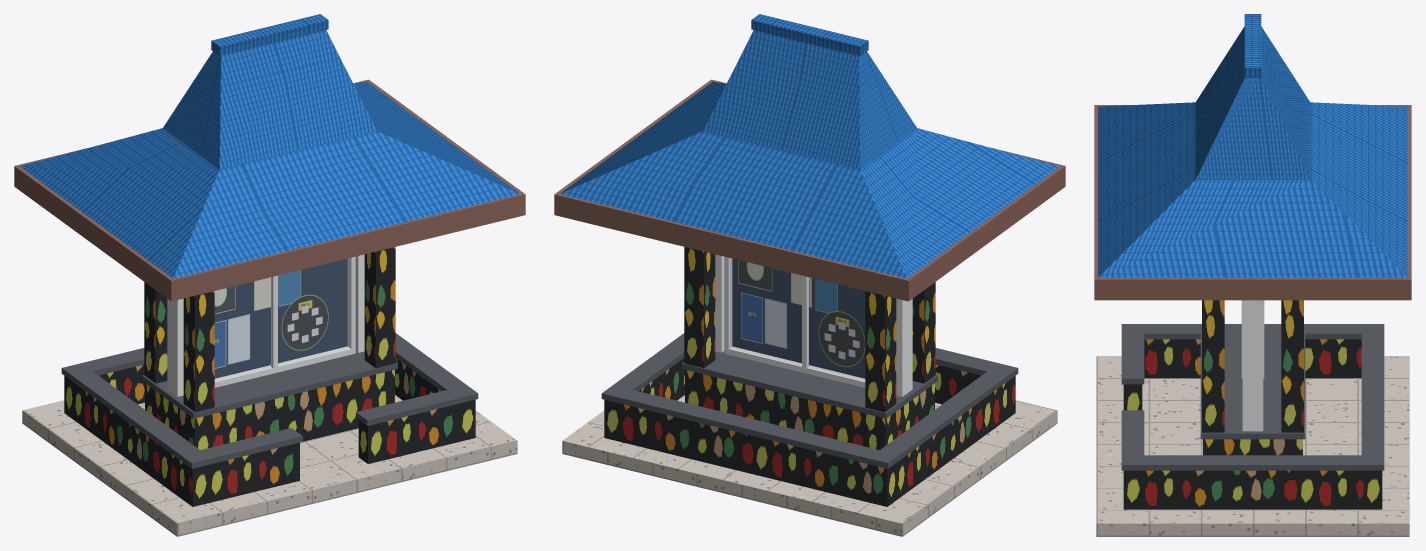
File: mading_pusat_informasi.glb
3 views of the same model, side by side, from view 1: azimuth 30°, elevation 25°; view 2: azimuth 150°, elevation 25°; view 3: azimuth 270°, elevation 25° (orthographic).
Visible parts, largest first — view 1: Atap_Joglo_Biru, Dinding_Dan_Pilar_Mozaik, Lantai_Terrazzo_Dasar, Keramik_Hitam_Atas_Dinding, Lisplang_Atap_Coklat, Kaca_Lemari_Mading, Poster_Dan_Isi_Mading, Bingkai_Aluminium_Mading, Plafon_Dan_Tiang_Putih; view 2: Atap_Joglo_Biru, Dinding_Dan_Pilar_Mozaik, Lantai_Terrazzo_Dasar, Keramik_Hitam_Atas_Dinding, Lisplang_Atap_Coklat, Kaca_Lemari_Mading, Poster_Dan_Isi_Mading, Bingkai_Aluminium_Mading, Plafon_Dan_Tiang_Putih; view 3: Atap_Joglo_Biru, Lantai_Terrazzo_Dasar, Dinding_Dan_Pilar_Mozaik, Keramik_Hitam_Atas_Dinding, Lisplang_Atap_Coklat, Plafon_Dan_Tiang_Putih.
Part boxes in pixels (<box>): Atap_Joglo_Biru: <box>20,14,519,278</box>; Dinding_Dan_Pilar_Mozaik: <box>64,247,475,506</box>; Lantai_Terrazzo_Dasar: <box>22,395,517,536</box>; Keramik_Hitam_Atas_Dinding: <box>61,333,478,468</box>; Lisplang_Atap_Coklat: <box>14,79,525,301</box>; Kaca_Lemari_Mading: <box>215,258,349,380</box>; Poster_Dan_Isi_Mading: <box>214,258,347,378</box>; Bingkai_Aluminium_Mading: <box>214,256,355,387</box>; Plafon_Dan_Tiang_Putih: <box>167,254,364,396</box>; Atap_Joglo_Biru: <box>560,14,1059,278</box>; Dinding_Dan_Pilar_Mozaik: <box>604,247,1015,506</box>; Lantai_Terrazzo_Dasar: <box>562,395,1057,536</box>; Keramik_Hitam_Atas_Dinding: <box>601,333,1018,468</box>; Lisplang_Atap_Coklat: <box>554,79,1065,301</box>; Kaca_Lemari_Mading: <box>730,258,864,380</box>; Poster_Dan_Isi_Mading: <box>732,258,865,378</box>; Bingkai_Aluminium_Mading: <box>724,256,865,387</box>; Plafon_Dan_Tiang_Putih: <box>715,254,912,396</box>; Atap_Joglo_Biru: <box>1098,14,1407,277</box>; Lantai_Terrazzo_Dasar: <box>1096,356,1409,536</box>; Dinding_Dan_Pilar_Mozaik: <box>1123,300,1382,509</box>; Keramik_Hitam_Atas_Dinding: <box>1121,324,1384,470</box>; Lisplang_Atap_Coklat: <box>1094,105,1411,300</box>; Plafon_Dan_Tiang_Putih: <box>1242,300,1263,431</box>.
Size of the model in its own units: 3.96 by 4.36 by 3.04.
Materials: 10 (5 with a texture image).
